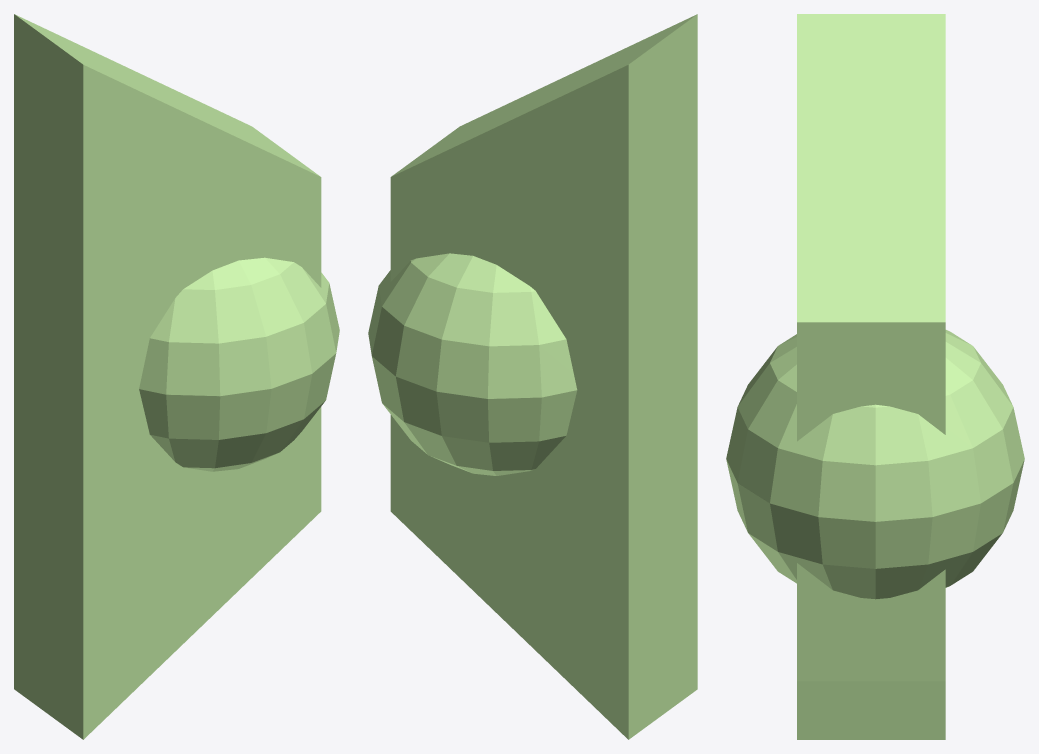
The model's file is SD_HullDetailPiece_02_Physics_Win32.glb.
3 views of the same model, side by side, from view 1: azimuth 30°, elevation 25°; view 2: azimuth 150°, elevation 25°; view 3: azimuth 270°, elevation 25° (orthographic). The views are drawn at different scales.
Parts seen in each view (by area): view 1: r0_i0_p0_convex, r0_i1_p0_capsule; view 2: r0_i0_p0_convex, r0_i1_p0_capsule; view 3: r0_i0_p0_convex, r0_i1_p0_capsule.
Boxes of the visible parts, <box> form: r0_i0_p0_convex: <box>14,14,321,739</box>; r0_i1_p0_capsule: <box>139,257,339,471</box>; r0_i0_p0_convex: <box>390,14,697,739</box>; r0_i1_p0_capsule: <box>368,253,577,475</box>; r0_i0_p0_convex: <box>797,14,945,739</box>; r0_i1_p0_capsule: <box>726,330,1024,599</box>.
Bounding box in the file's own units: 8.44 × 19.75 × 7.36.
